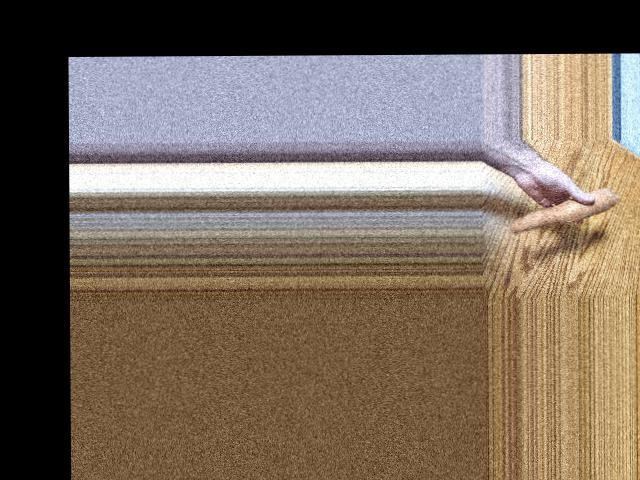sweet_potato: (504, 194, 617, 225)
